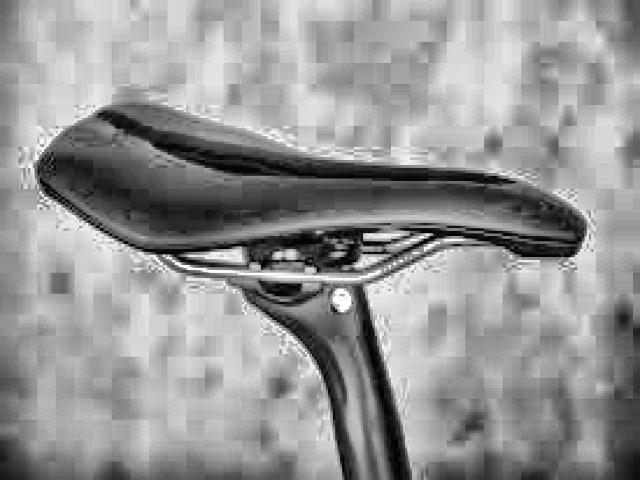saddle: (32, 97, 590, 282)
